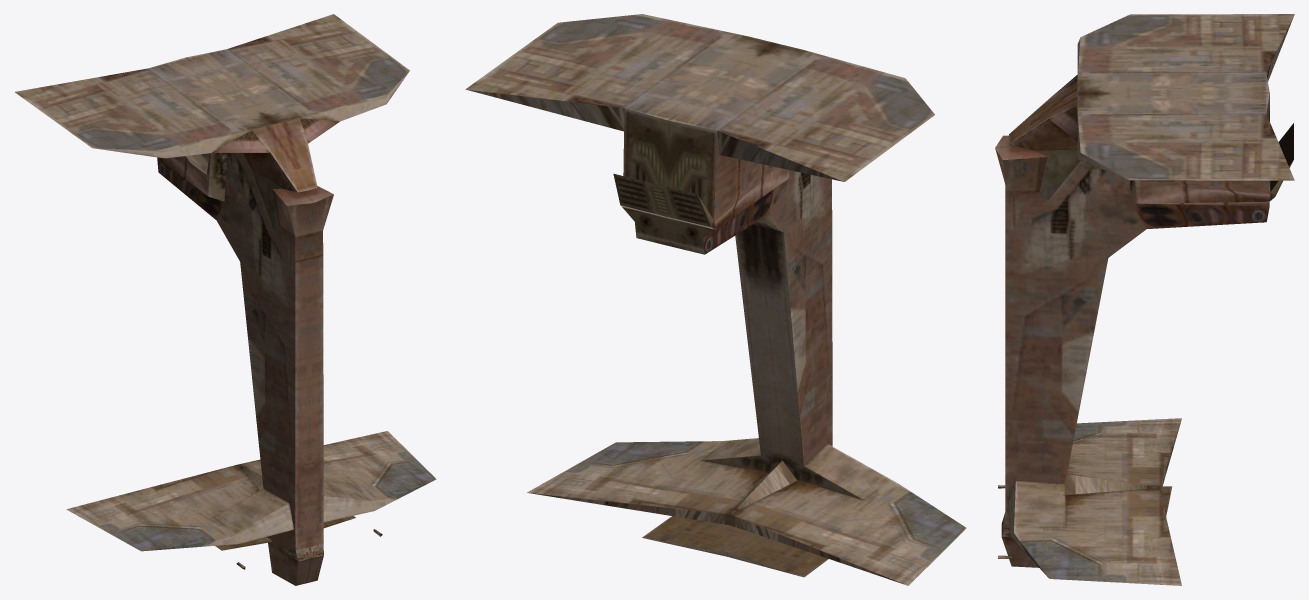
The model's file is merchant_cruiser_light_l4.fbx.
3 renders of one model, left to right at view 1: azimuth 30°, elevation 25°; view 2: azimuth 150°, elevation 25°; view 3: azimuth 270°, elevation 25°, orthographic. The views are drawn at different scales.
Parts seen in each view (by area): view 1: mesh_node; view 2: mesh_node; view 3: mesh_node.
Boxes of the visible parts, x1,y1,x2,y2 form: mesh_node: [15, 14, 436, 585]; mesh_node: [465, 14, 966, 585]; mesh_node: [995, 14, 1294, 585].
Size of the model in its own units: 34.5 by 44.82 by 26.04.
Materials: 1 (1 with a texture image).
